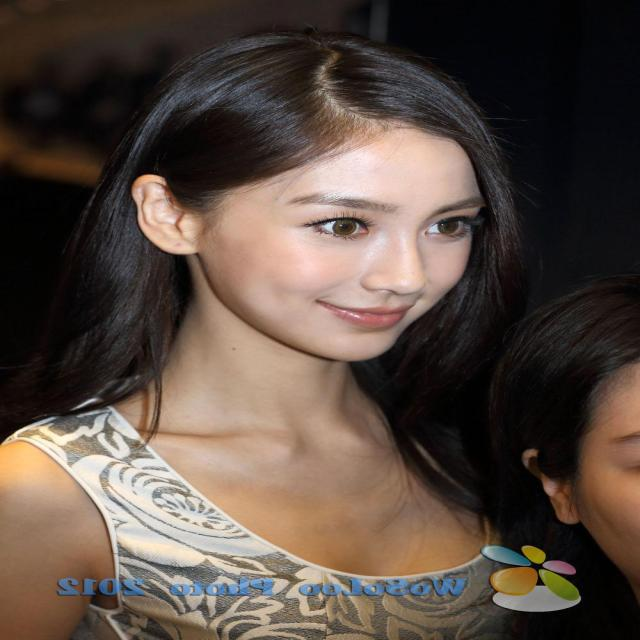no-earmuff: (102, 156, 230, 275), (496, 422, 611, 544)
